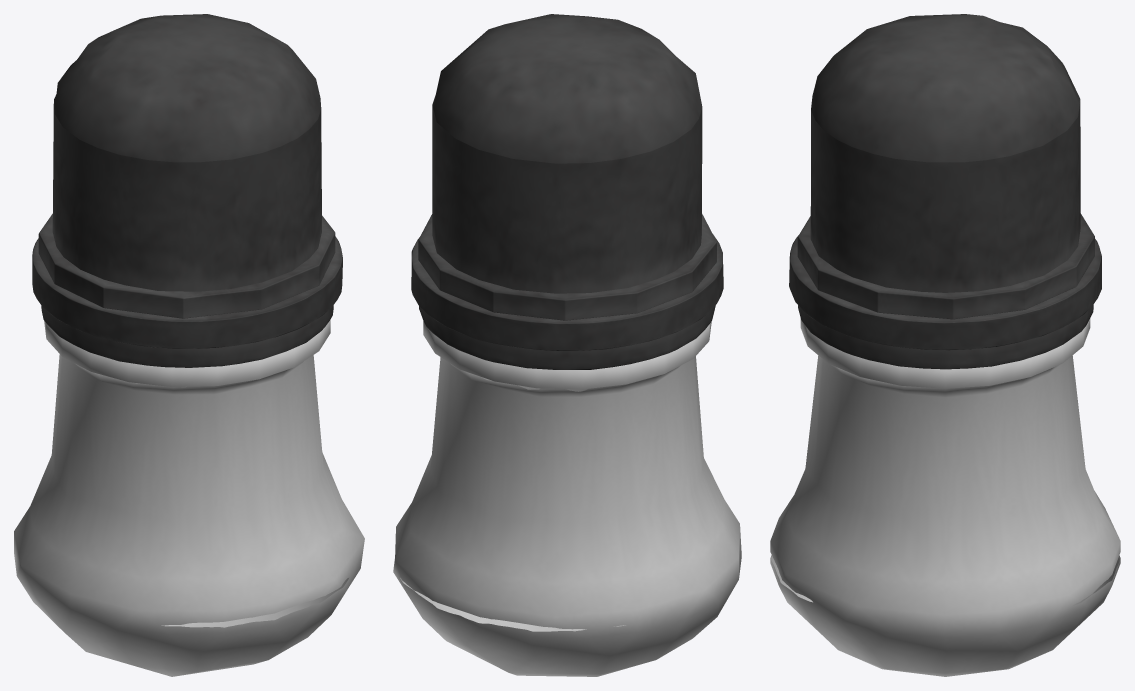
Rendered from SM_hanginglight_nowire_01d.fbx.
The picture shows the model from 3 angles, left to right: view 1: azimuth 30°, elevation 25°; view 2: azimuth 150°, elevation 25°; view 3: azimuth 270°, elevation 25°; orthographic projection.
Visible parts, largest first — view 1: SM_hanginglight_nowire_01d_LOD0; view 2: SM_hanginglight_nowire_01d_LOD0; view 3: SM_hanginglight_nowire_01d_LOD0.
Boxes of the visible parts, x1,y1,x2,y2 form: SM_hanginglight_nowire_01d_LOD0: (14, 14, 364, 676); SM_hanginglight_nowire_01d_LOD0: (393, 14, 741, 676); SM_hanginglight_nowire_01d_LOD0: (770, 14, 1120, 676).
Size of the model in its own units: 11.08 by 11.05 by 21.19.
